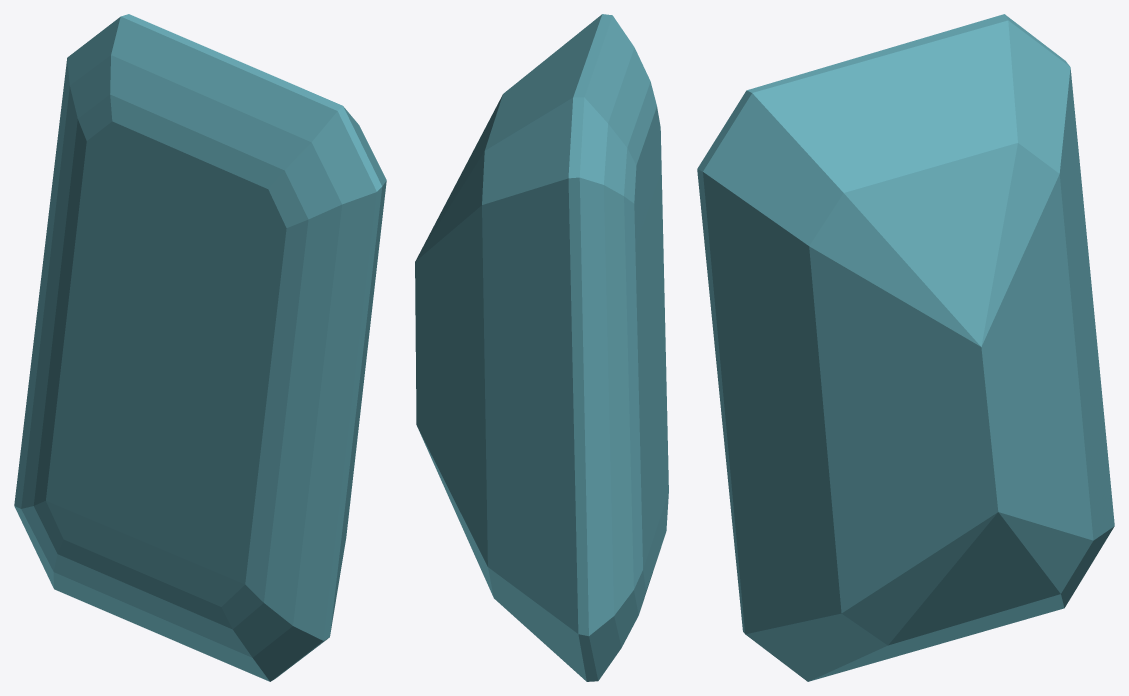
File: BL5_8shapes_Emerald_Classic_Stone.001 2.glb
3 renders of one model, left to right at view 1: azimuth 30°, elevation 25°; view 2: azimuth 150°, elevation 25°; view 3: azimuth 270°, elevation 25°, orthographic. The views are drawn at different scales.
Visible parts, largest first — view 1: BL5_8shapes_Emerald_Classic_Stone.001; view 2: BL5_8shapes_Emerald_Classic_Stone.001; view 3: BL5_8shapes_Emerald_Classic_Stone.001.
Part boxes in pixels (x1,y1,x2,y2): BL5_8shapes_Emerald_Classic_Stone.001: [14, 14, 386, 681]; BL5_8shapes_Emerald_Classic_Stone.001: [415, 14, 668, 681]; BL5_8shapes_Emerald_Classic_Stone.001: [697, 14, 1114, 681].
Bounding box in the file's own units: 0.2595 × 0.5857 × 0.348.
